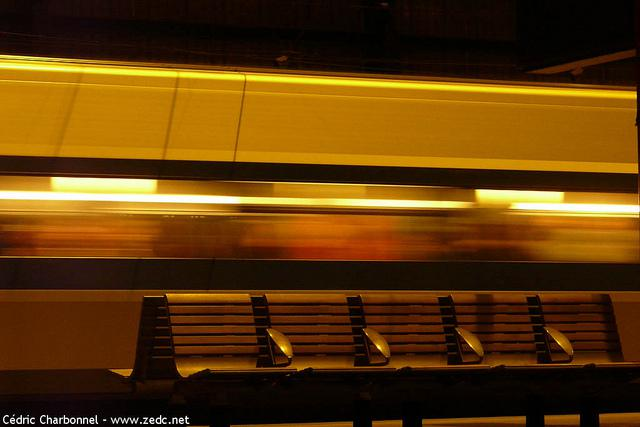Train: (0, 213, 640, 265)
